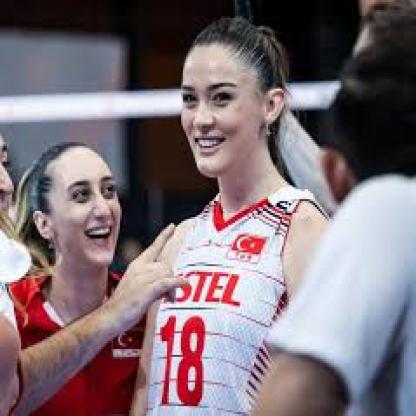person: (182, 16, 290, 183), (25, 142, 126, 271), (0, 125, 19, 224)
